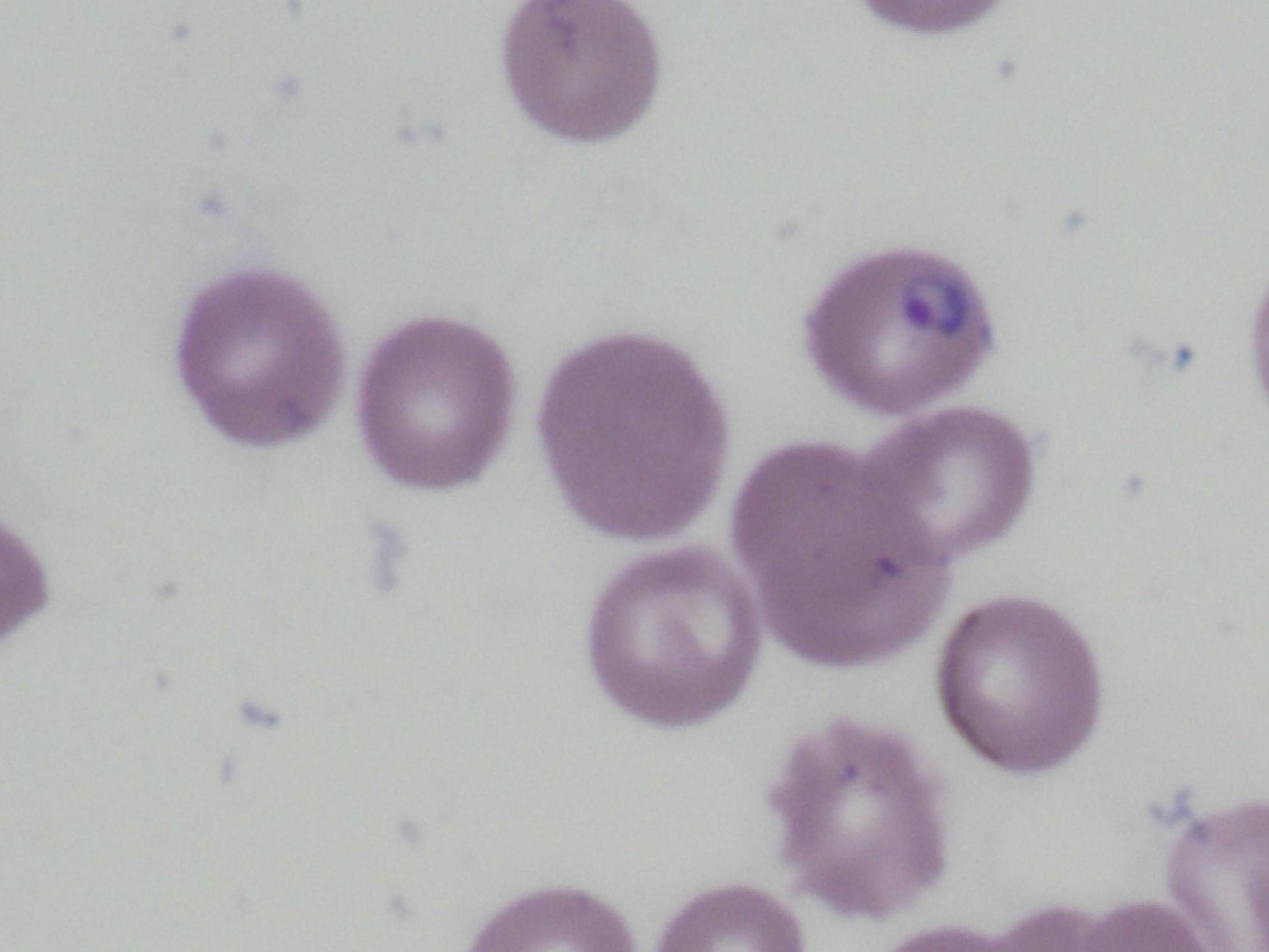Infected: (811, 245, 999, 407)
Uninfected: (540, 338, 726, 533), (764, 487, 956, 666), (773, 721, 950, 915), (181, 272, 352, 453), (593, 551, 758, 732), (853, 408, 1035, 569), (934, 600, 1100, 771), (359, 318, 516, 495), (509, 0, 657, 138), (729, 443, 867, 576)
